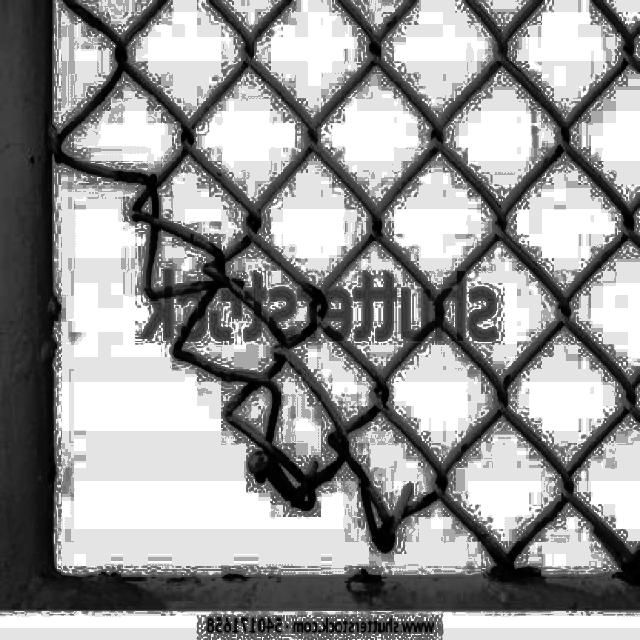anomaly-fence: (49, 0, 478, 579)
